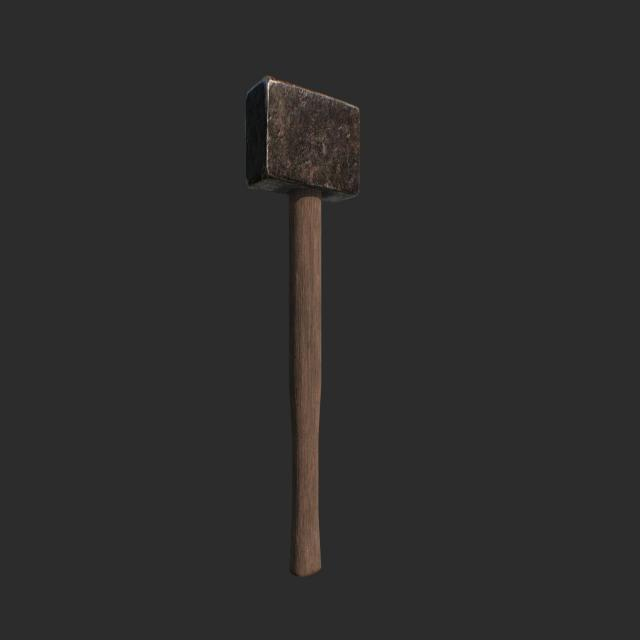hammer: (236, 67, 368, 600)
